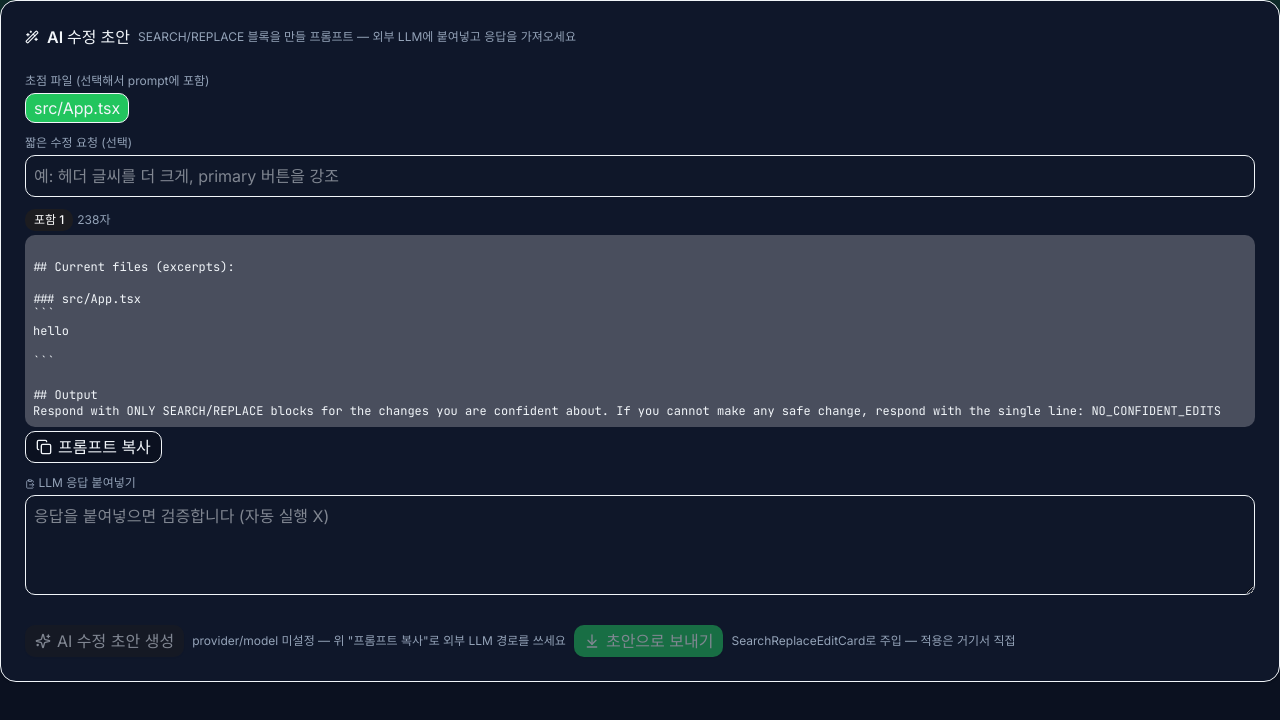
Scenario: TurboEditDraftCard — OSS-H5 producer surface › (T6) valid 응답 → ok 라벨 + send 클릭하면 onSendDraft가 원문 텍스트로 호출
Later steps or results of the test are not shown.
Step 1. Type "src/App.tsx <<<<<<< SEARCH hello ======= world >>>>>>> REPLACE" into the text box with test id "turbo-edits-paste-t6" → (640, 545), box [25,495,1255,595]
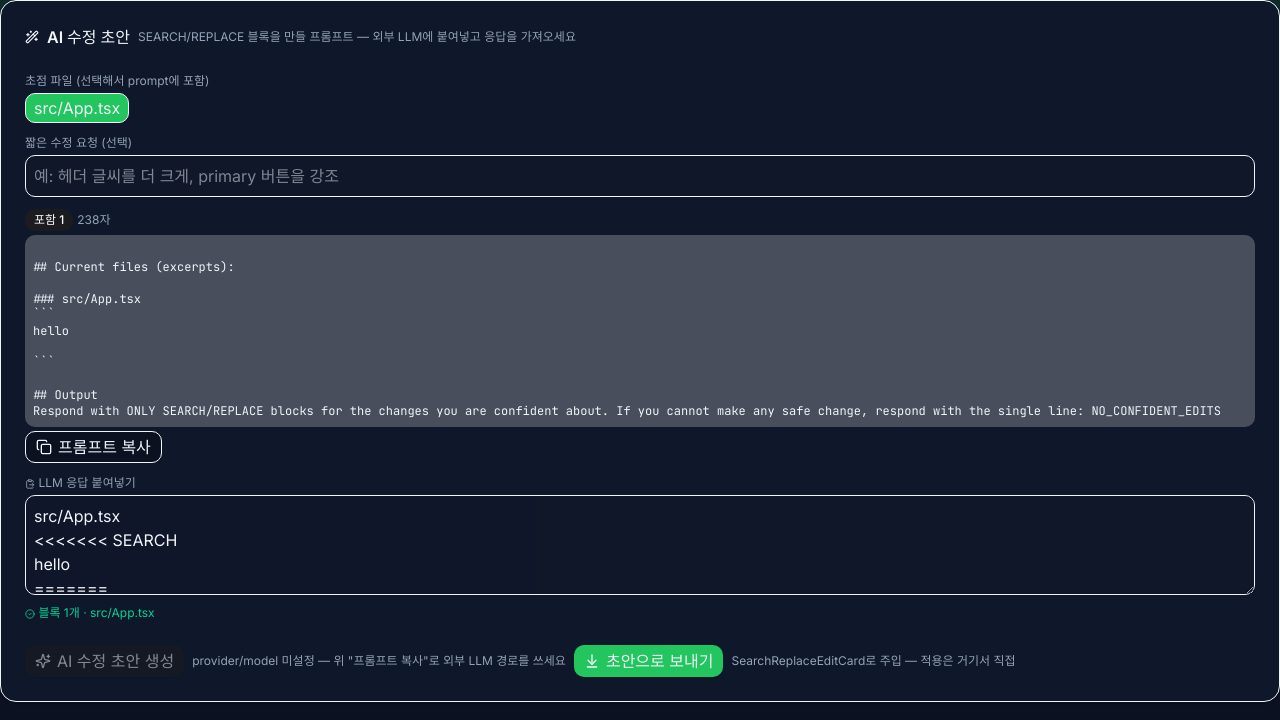
Check: the element with test id "turbo-edits-validation-ok-t6" shows "블록 1", box [25,605,155,620]
